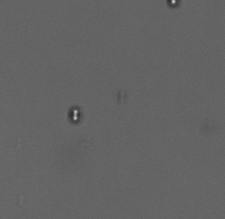Living Cell: (66, 104, 84, 123), (165, 1, 181, 8)
